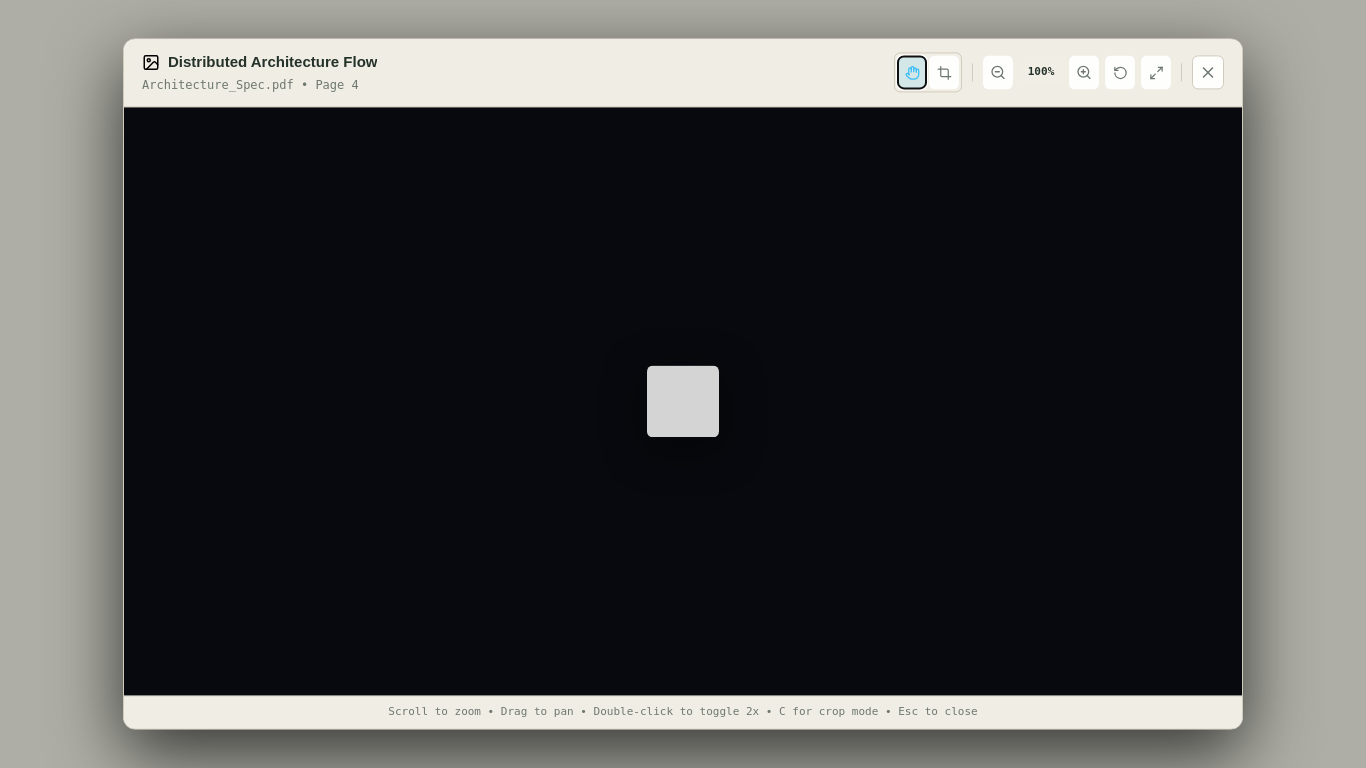
Test: FigureLightboxDialog › resets zoom to 100% when clicking reset button
Click the button named "Zoom In" at (1084, 73), box [1069,56,1099,90]
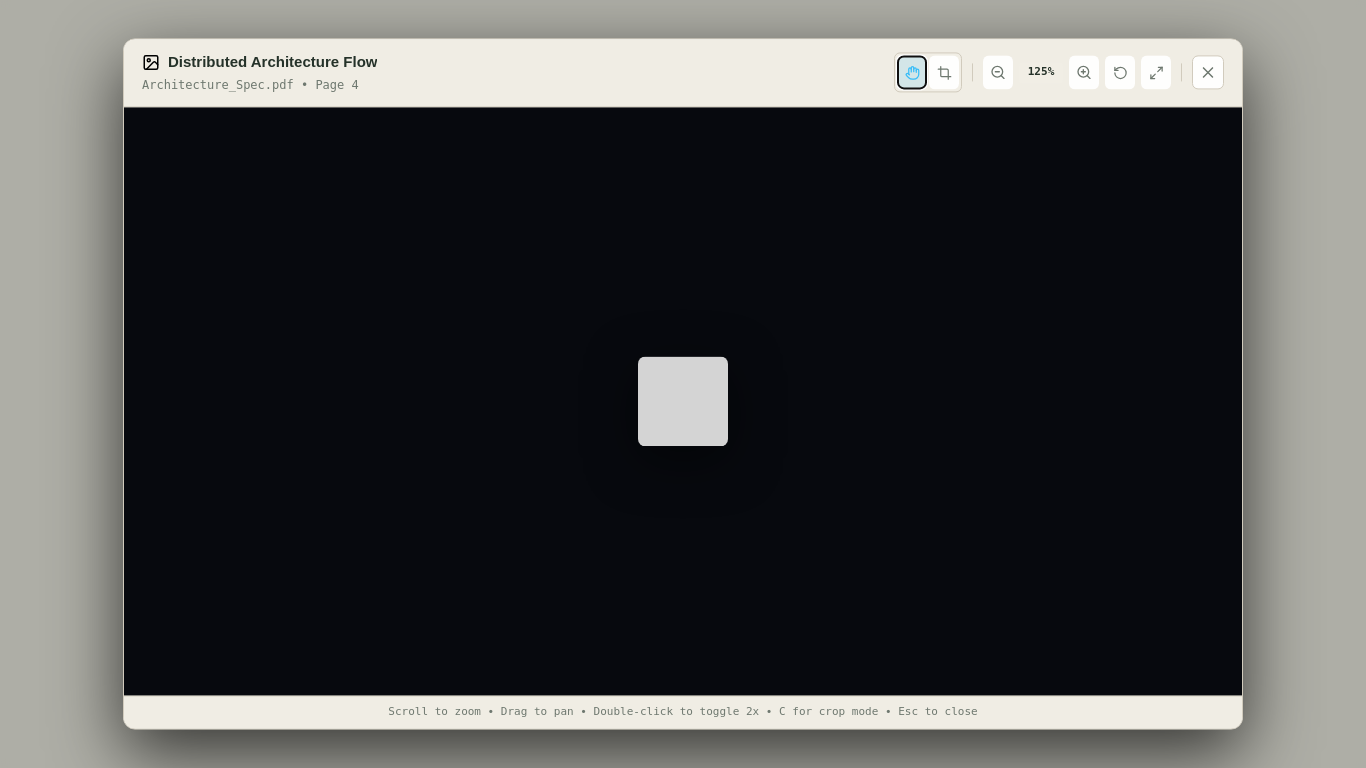
Click the button named "Zoom In" at (1084, 73), box [1069,56,1099,90]
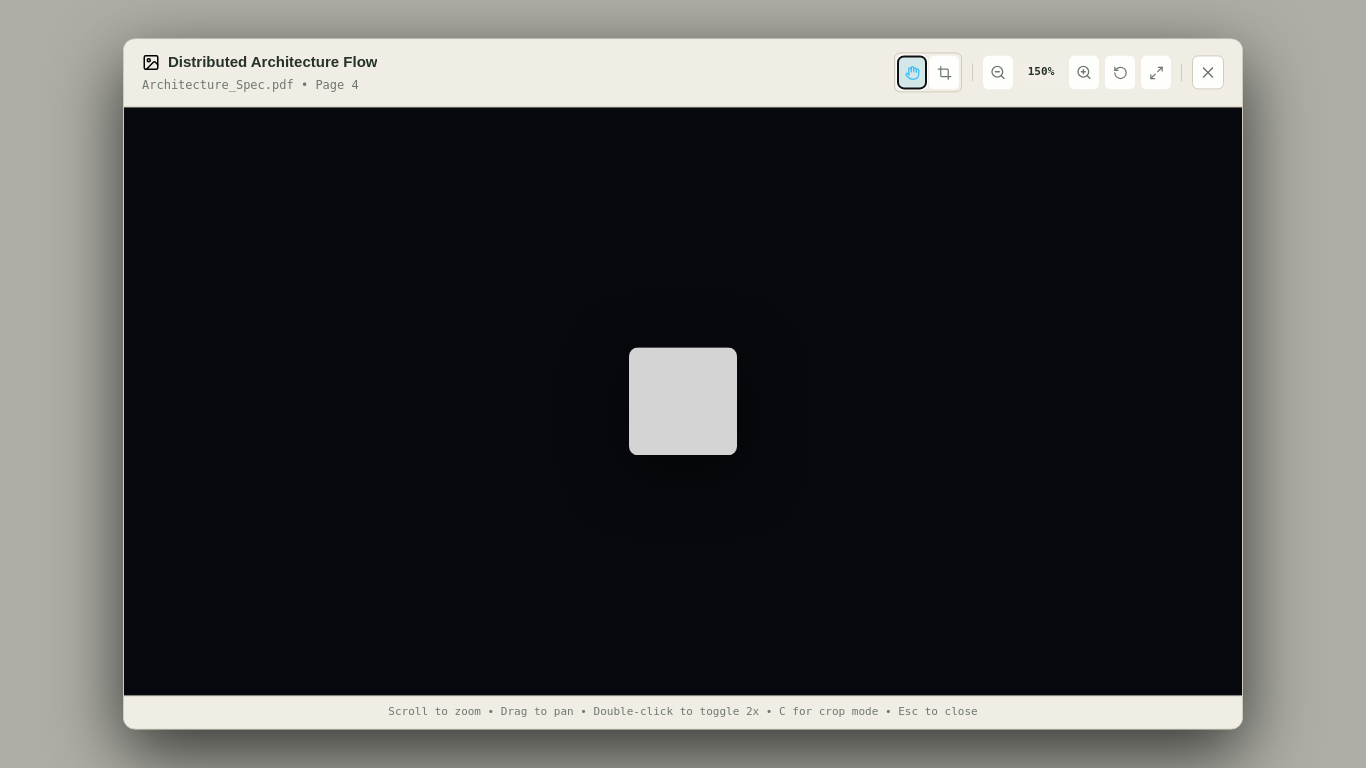
Check: the text "150%" is shown, box [1019,62,1063,83]
Click the button named "Reset Zoom" at (1120, 73), box [1105,56,1135,90]
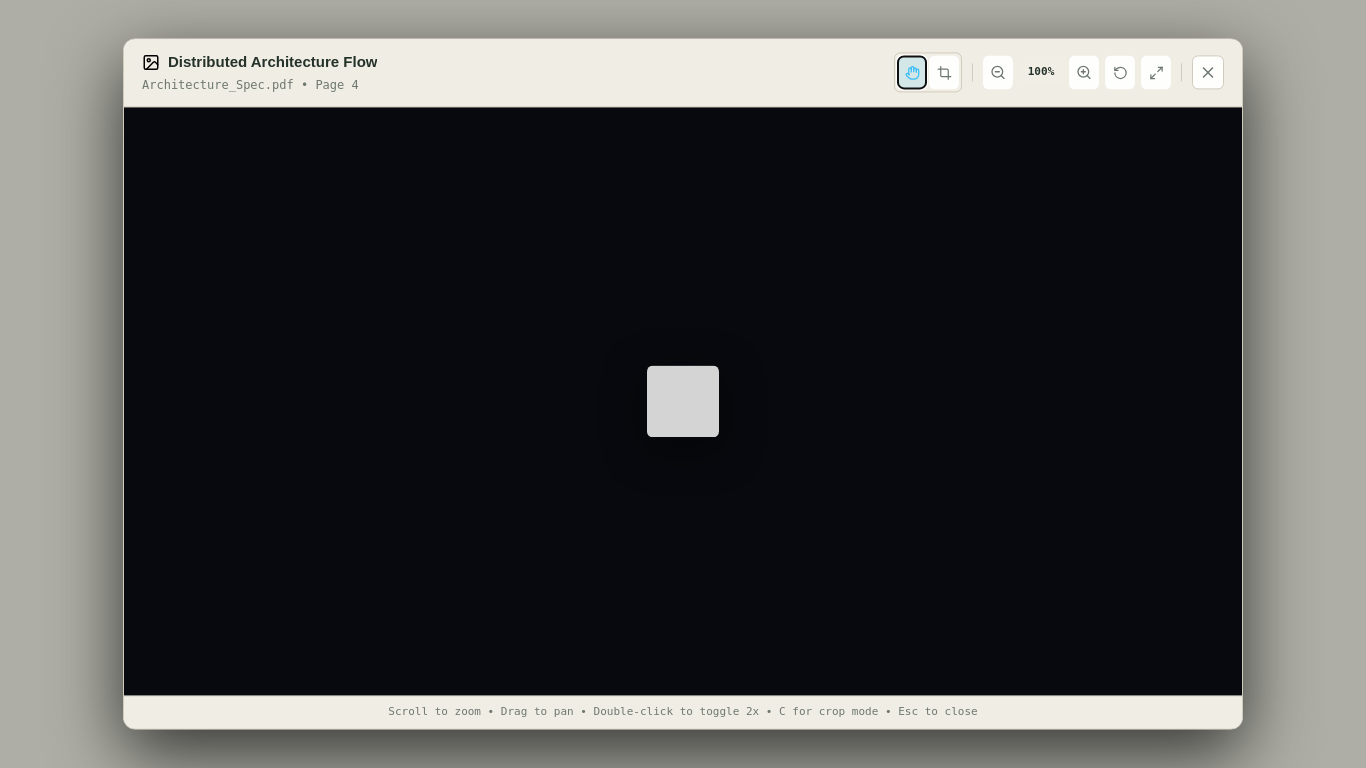
Check: the text "100%" is shown, box [1019,62,1063,83]
